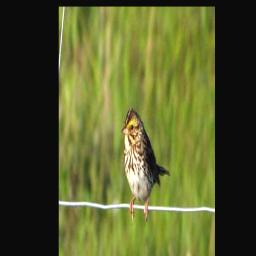Sparrow: (121, 105, 170, 223)
